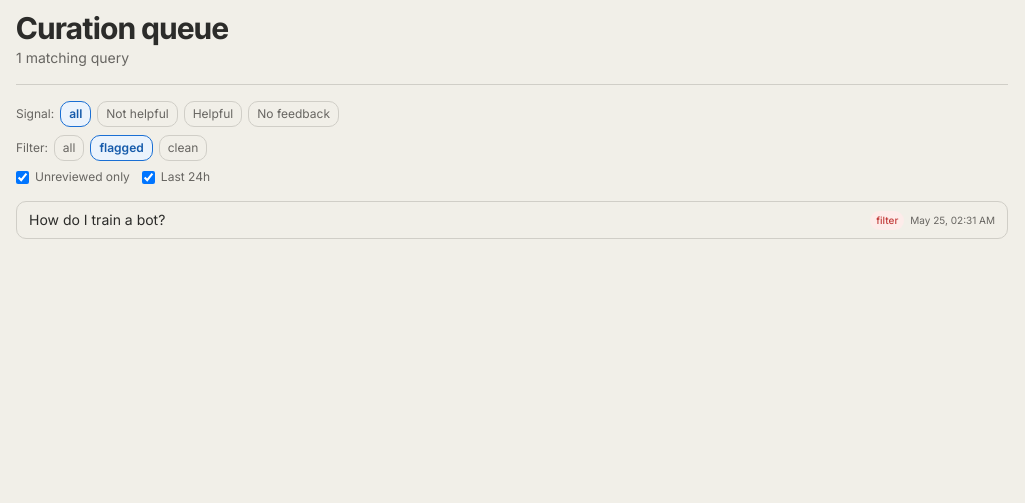
AdminHelpQueriesPage › renders rows with badges and clicks expand the detail panel
Expected: the text "filter" is shown, [870,210,904,230]
Click the button with test id "row-q1". click: (97, 220)
box: [16,201,1008,239]
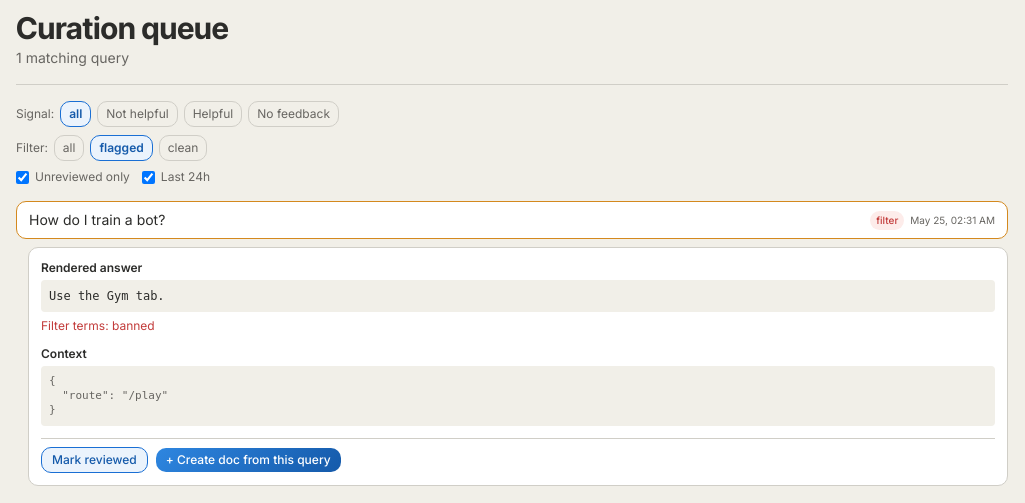
Now the element with test id "detail-q1" is shown, box [28,247,1008,486]
Now the text "Use the Gym tab." is shown, box [41,280,995,312]
Now the text "Filter terms: banned" is shown, box [41,318,155,333]
